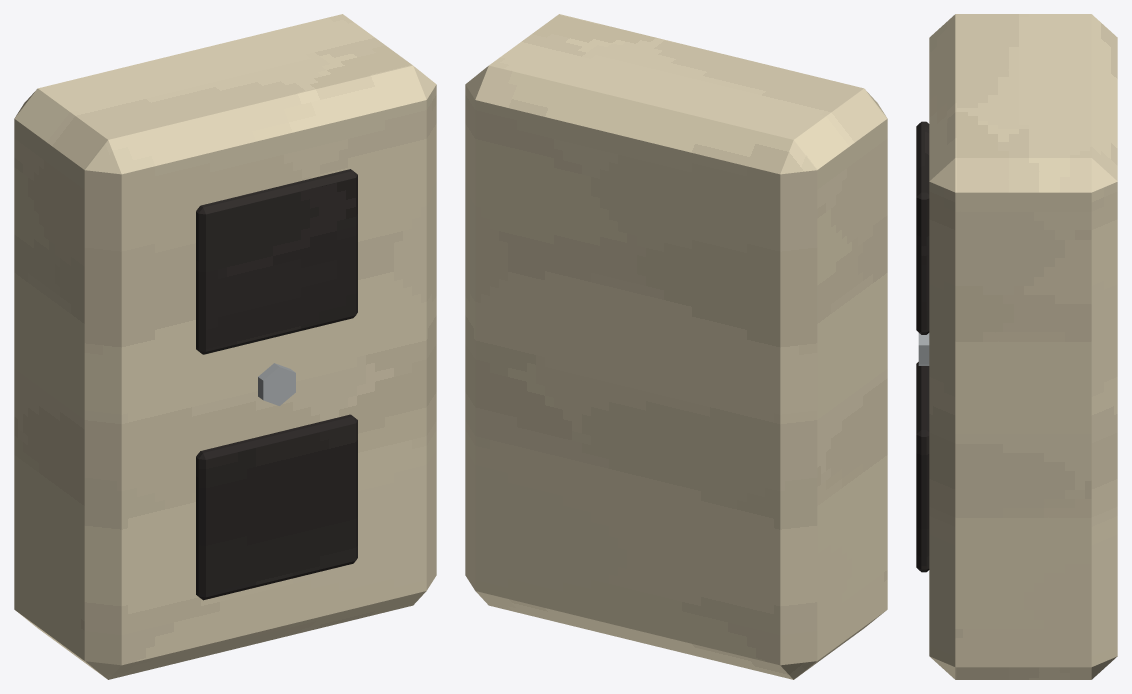
File: gk_outlet.glb
3 renders of one model, left to right at view 1: azimuth 30°, elevation 25°; view 2: azimuth 150°, elevation 25°; view 3: azimuth 270°, elevation 25°, orthographic. The views are drawn at different scales.
Parts seen in each view (by area): view 1: p; view 2: p; view 3: p.
Boxes of the visible parts, left/top/right/bottom form: p: left=14, top=14, right=436, bottom=679; p: left=465, top=14, right=887, bottom=679; p: left=916, top=14, right=1117, bottom=679.
Size of the model in its own units: 0.075 by 0.11 by 0.0385.
3 materials, 3 textured.
